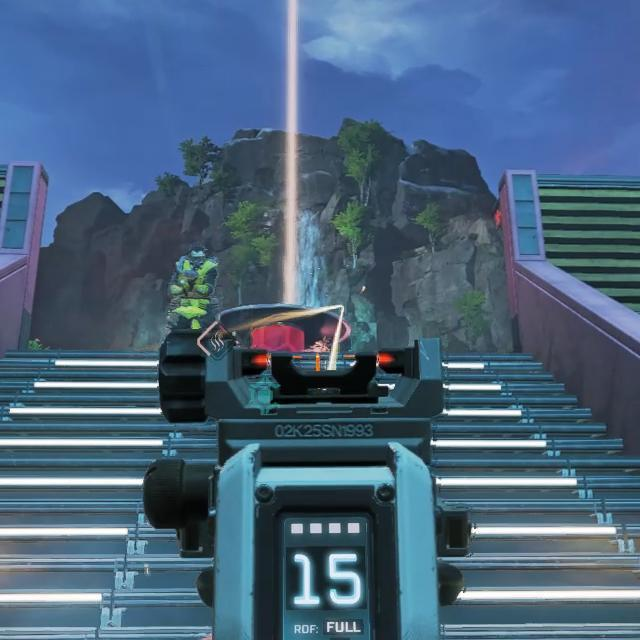avatar: (167, 242, 221, 329)
